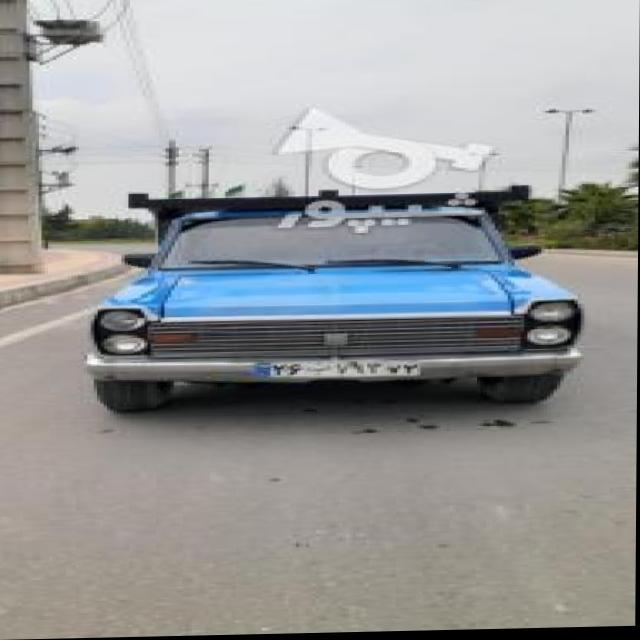licence: (248, 357, 425, 385)
